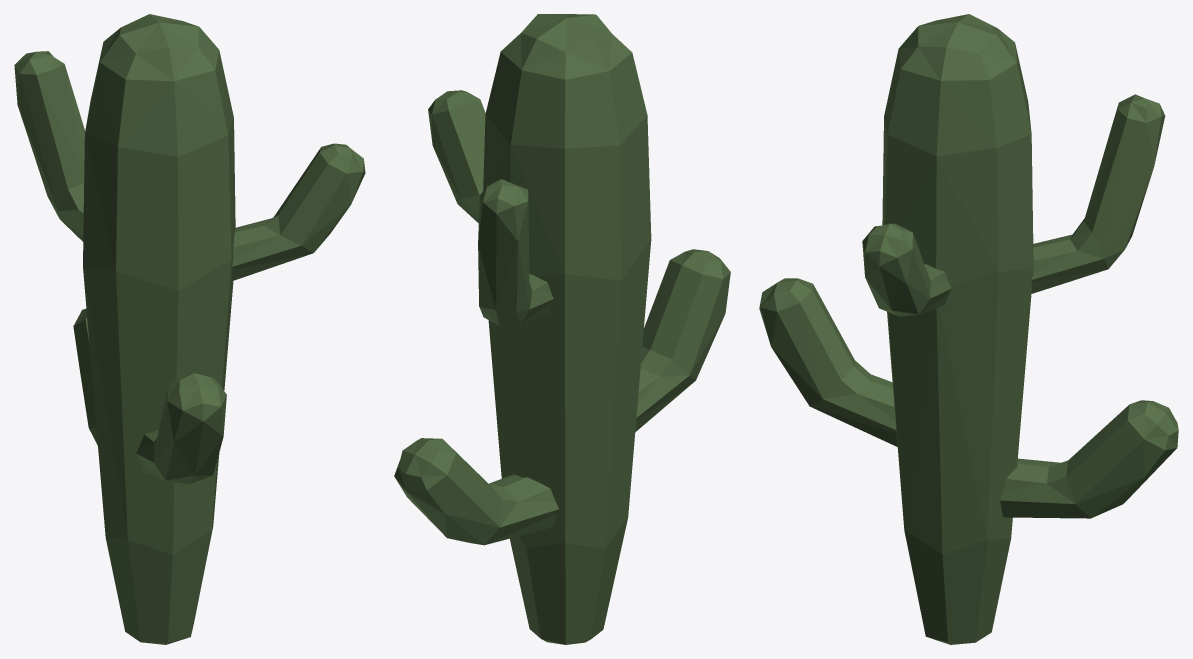
The model's file is Cactus_2.lod1.glb.
The picture shows the model from 3 angles, left to right: view 1: azimuth 30°, elevation 25°; view 2: azimuth 150°, elevation 25°; view 3: azimuth 270°, elevation 25°; orthographic projection.
Parts seen in each view (by area): view 1: Cactus_2; view 2: Cactus_2; view 3: Cactus_2.
Boxes of the visible parts, <box> form: Cactus_2: <box>14,14,365,644</box>; Cactus_2: <box>394,14,730,644</box>; Cactus_2: <box>759,14,1178,644</box>.
Bounding box in the file's own units: 0.7002 × 1.7 × 1.05.
